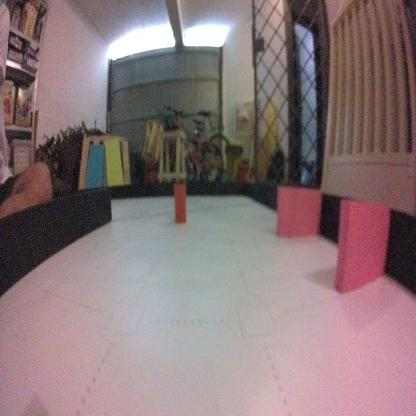magenta: (334, 196, 387, 300), (275, 183, 321, 239)
red: (172, 181, 188, 228)
